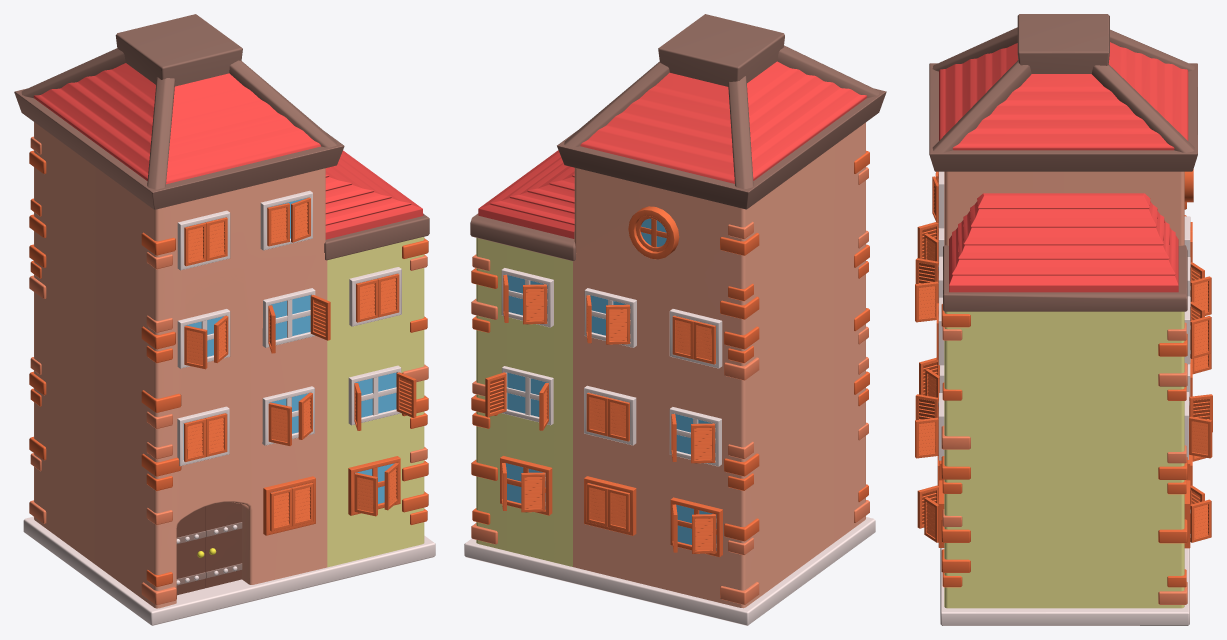
Rendered from City_3_House_1.glb.
The picture shows the model from 3 angles, left to right: view 1: azimuth 30°, elevation 25°; view 2: azimuth 150°, elevation 25°; view 3: azimuth 270°, elevation 25°; orthographic projection. The views are drawn at different scales.
Parts seen in each view (by area): view 1: City_3_House_1; view 2: City_3_House_1; view 3: City_3_House_1.
Part boxes in pixels (left/top/right/bottom): City_3_House_1: left=14, top=14, right=435, bottom=625; City_3_House_1: left=464, top=14, right=886, bottom=625; City_3_House_1: left=915, top=14, right=1212, bottom=625.
Bounding box in the file's own units: 8.67 × 14.8 × 7.95.
Materials: 1 (1 with a texture image).
